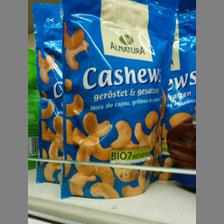Nuss: (58, 0, 178, 200)
